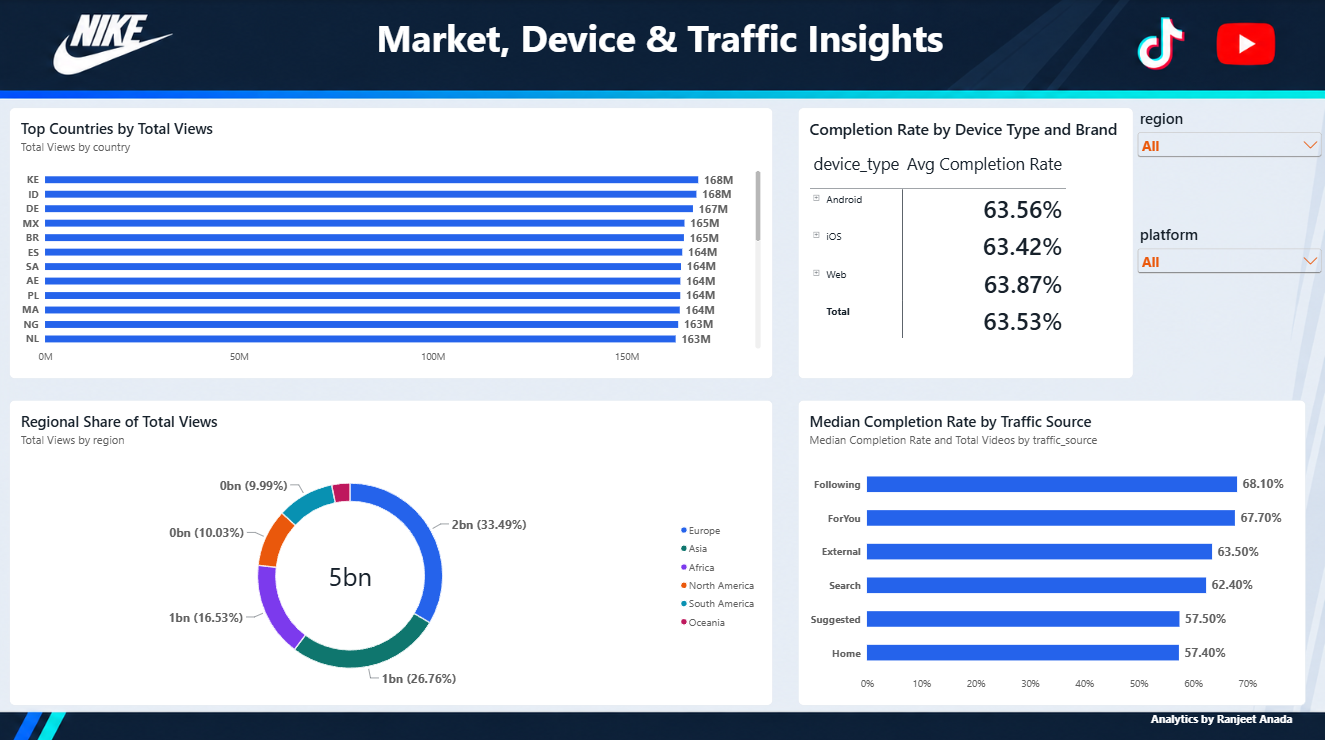

What the dashboard file says about the page in this screenshot:
{"tool":"powerbi","page":{"name":"Market & Device Analysis","canvas":[1920,1080],"ordinal":3},"visuals":[{"type":"slicer","fields":{"Values":["Nike_Videos.platform"]},"box":[1644.6,323.2,276,76.2],"z":0},{"type":"slicer","fields":{"Values":["Nike_Videos.region"]},"box":[1644.6,156.4,276,76],"z":1000},{"type":"clusteredBarChart","title":"Top Countries by Total Views","fields":{"Y":["Nike_Measures.Total Views"],"Category":["Nike_Videos.country"]},"box":[16.5,156.4,1105.3,393.1],"z":2000},{"type":"donutChart","title":"Regional Share of Total Views","fields":{"Category":["Nike_Videos.region"],"Y":["Nike_Measures.Total Views"]},"box":[16.5,578.4,1105.3,442.5],"z":3000},{"type":"pivotTable","title":"Completion Rate by Device Type and Brand","fields":{"Rows":["Nike_Videos.device_type","Nike_Videos.device_brand"],"Values":["Nike_Measures.Avg Completion Rate"]},"box":[1158.8,156.4,485.8,393.1],"z":4000},{"type":"clusteredBarChart","title":"Median Completion Rate by Traffic Source","fields":{"Category":["Nike_Videos.traffic_source"],"Y":["Nike_Measures.Median Completion Rate"]},"box":[1158.8,578.4,734.8,442.5],"z":5000},{"type":"textbox","box":[479.6,18.5,957.1,113.2],"z":5001},{"type":"textbox","box":[1644.6,1029.2,253.2,32.9],"z":5002}]}

Visuals, with their boxes in screenshot pixels (x1, y1, x2, y2), scaled from the page's 1920x1080 canvas onto the 1325x740 screenshot:
slicer - Nike_Videos.platform: detection(1135, 221, 1324, 274)
slicer - Nike_Videos.region: detection(1135, 107, 1324, 159)
"Top Countries by Total Views" clusteredBarChart: detection(11, 107, 774, 377)
"Regional Share of Total Views" donutChart: detection(11, 396, 774, 700)
"Completion Rate by Device Type and Brand" pivotTable: detection(800, 107, 1135, 377)
"Median Completion Rate by Traffic Source" clusteredBarChart: detection(800, 396, 1307, 700)
textbox: detection(331, 13, 991, 90)
textbox: detection(1135, 705, 1310, 728)
